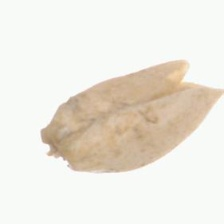L1: (164, 58, 224, 101), (39, 126, 71, 167)
L2: (40, 61, 224, 176)
